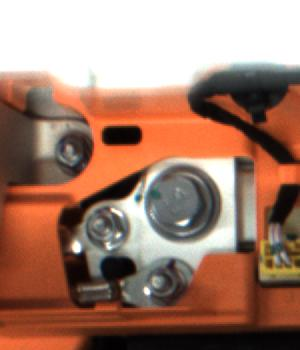nut_b: (137, 162, 226, 239)
